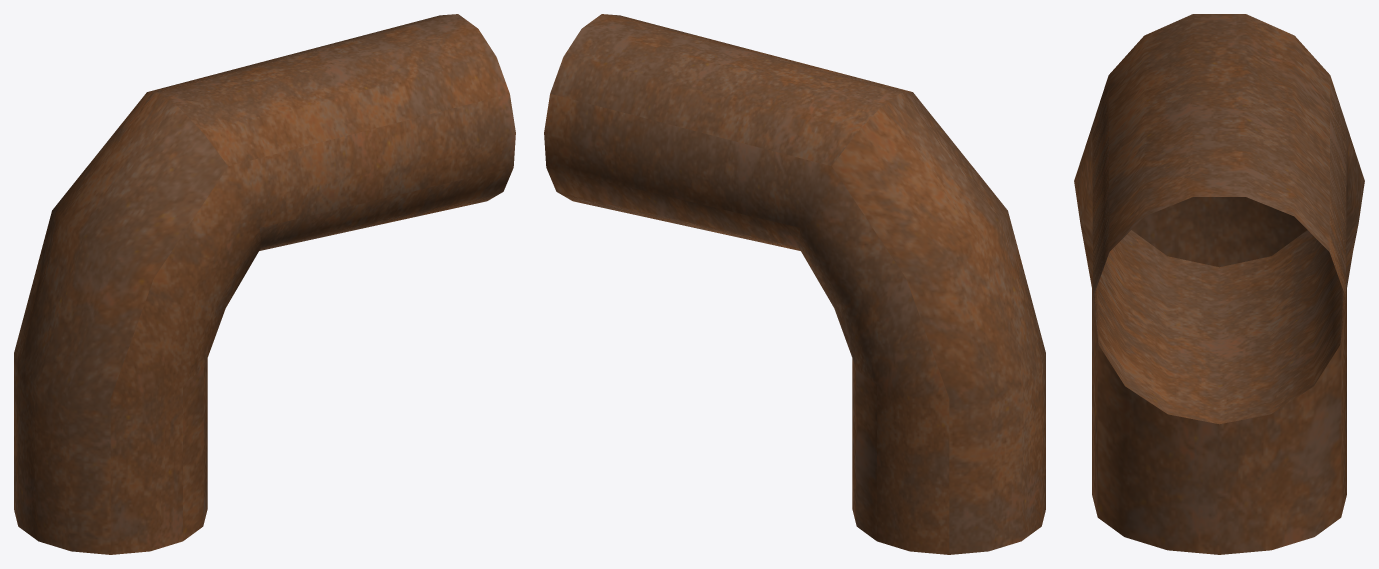
Rendered from RightCurvePipe.fbx.
The picture shows the model from 3 angles, left to right: view 1: azimuth 30°, elevation 25°; view 2: azimuth 150°, elevation 25°; view 3: azimuth 270°, elevation 25°; orthographic projection. The views are drawn at different scales.
Parts seen in each view (by area): view 1: RightCurve_Pipe; view 2: RightCurve_Pipe; view 3: RightCurve_Pipe.
Boxes of the visible parts, x1,y1,x2,y2 form: RightCurve_Pipe: [14, 14, 515, 554]; RightCurve_Pipe: [544, 14, 1045, 554]; RightCurve_Pipe: [1074, 14, 1364, 554].
Bounding box in the file's own units: 55.14 × 48.54 × 23.98.
